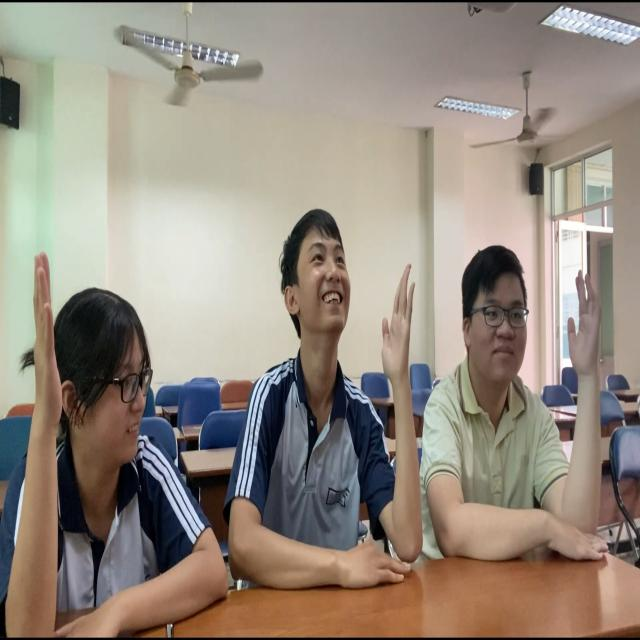raise_hand: (4, 232, 216, 640), (426, 243, 640, 636)
